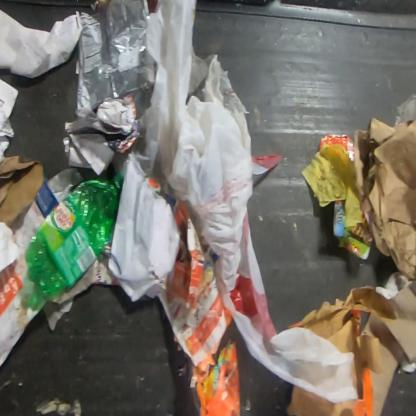cardboard: (286, 282, 416, 416), (356, 118, 416, 281), (0, 154, 43, 225), (333, 198, 374, 262)
metal: (319, 134, 355, 164)
rigid_plastic: (25, 172, 124, 304), (7, 165, 85, 250)
soft_plastic: (111, 0, 358, 405), (75, 0, 155, 117)
